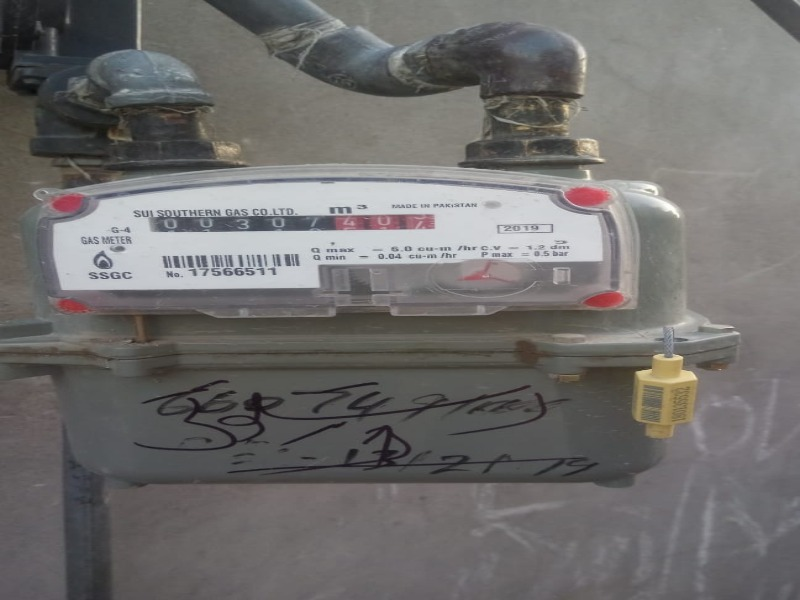ssgc: (142, 211, 438, 234)
